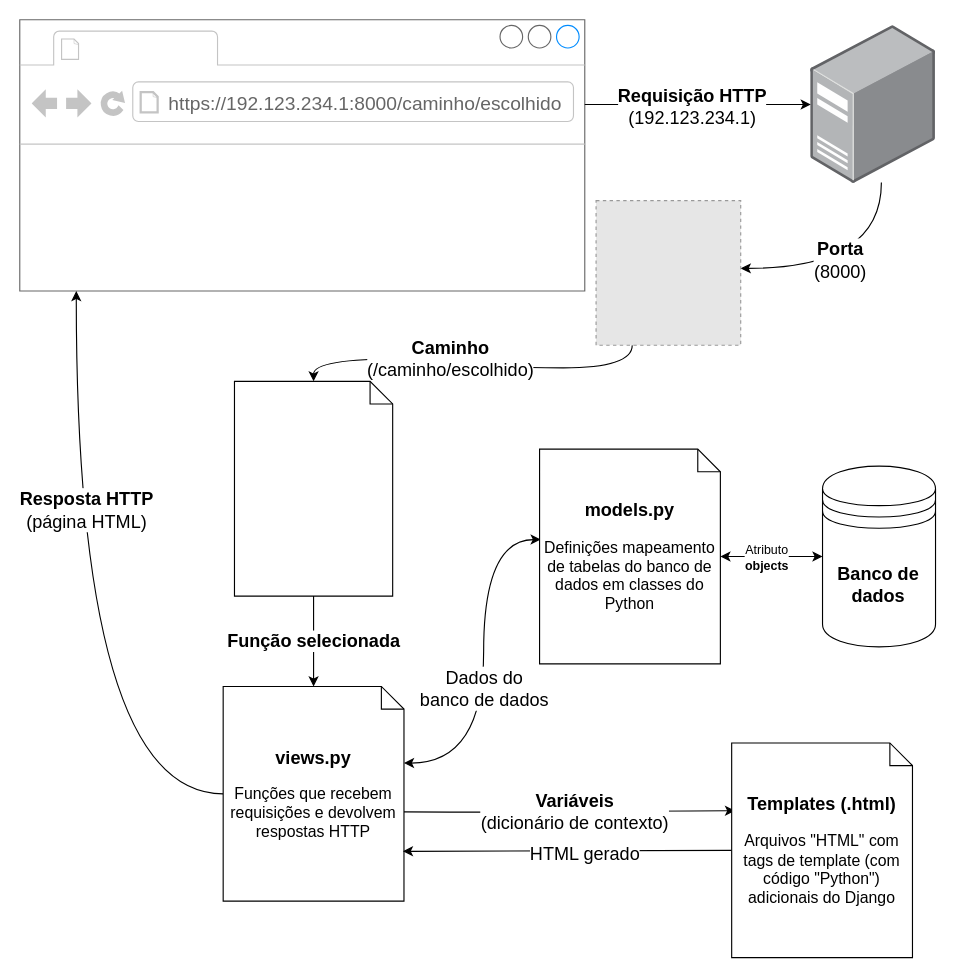
Image size: 956x977. Some labels were removed from this diagram. Grey dashed boxes stand in for pictures. Here are the shapes that lost their labels. From the top down, the centre of each, then its label:
the point at 149,47: Página
the point at 313,488: urls.py Mapeia rotas para views
